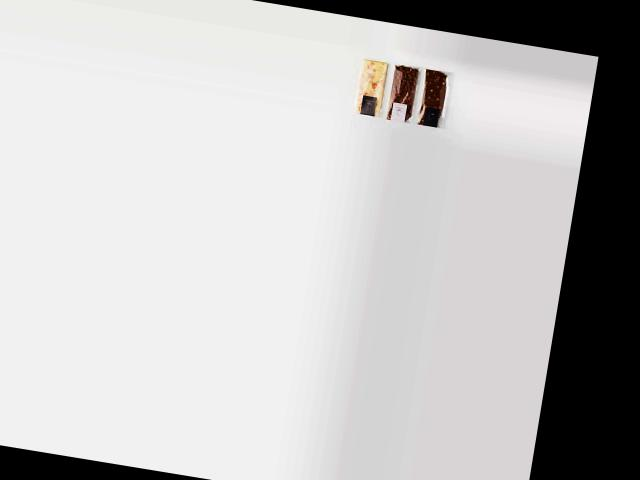chocolate: (418, 66, 453, 128)
